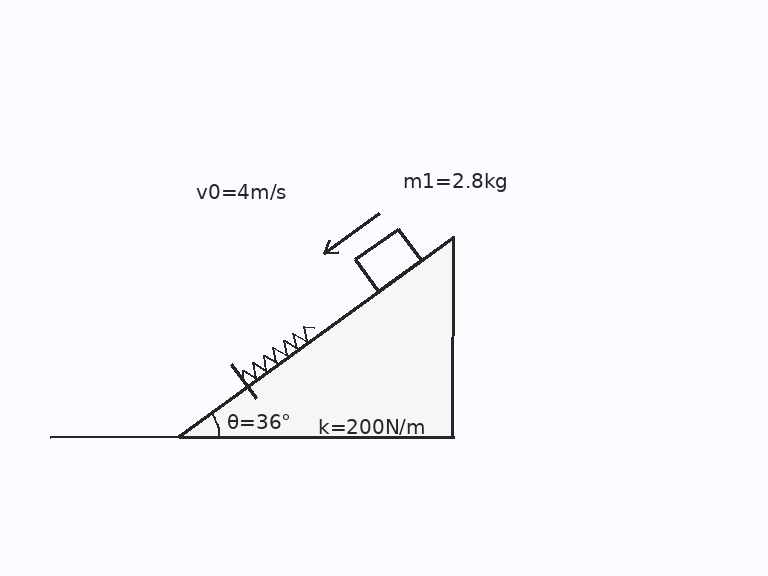block: (353, 226, 423, 293)
ramp: (177, 235, 454, 438)
spring: (240, 323, 315, 381)
